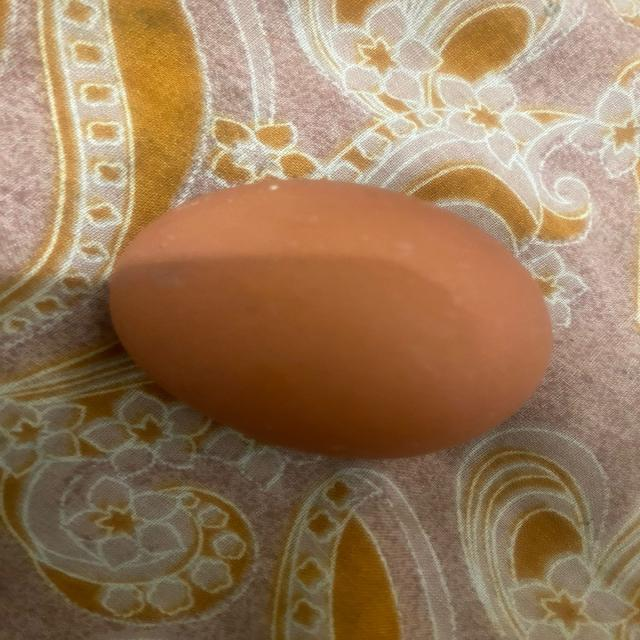egg: (98, 168, 558, 466)
